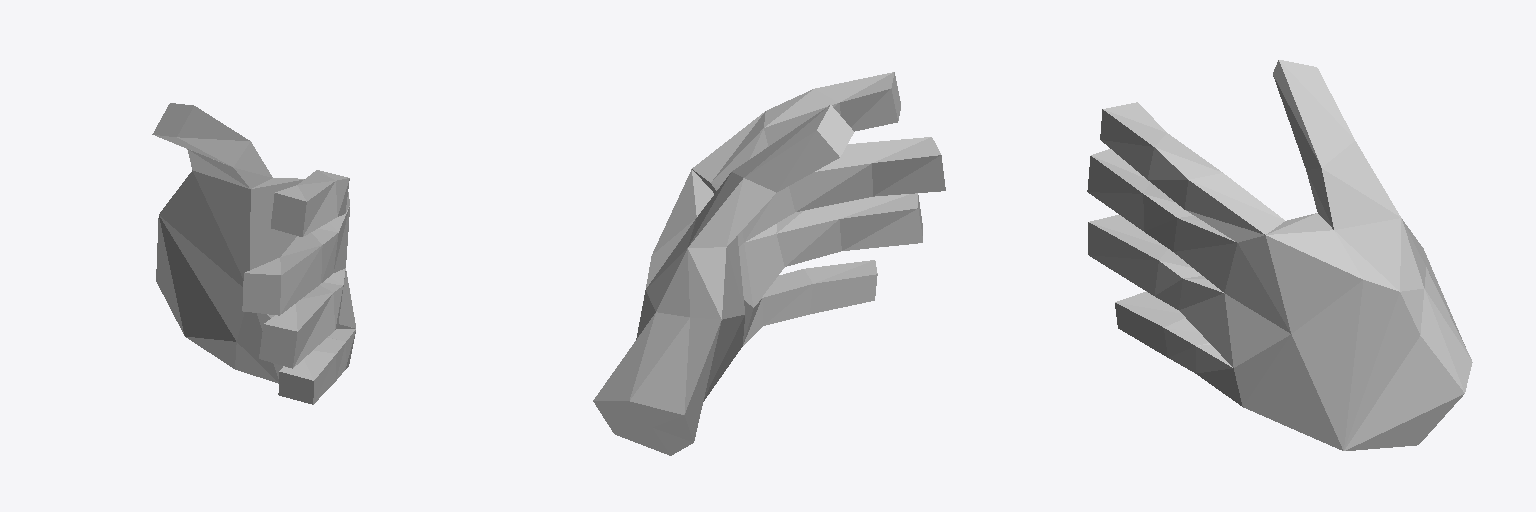
Rendered from ClarinetLeftHand0.obj.
3 renders of one model, left to right at view 1: azimuth 30°, elevation 25°; view 2: azimuth 150°, elevation 25°; view 3: azimuth 270°, elevation 25°, orthographic.
Visible parts, largest first — view 1: ClarinetLeftHand1_RecorderHandLeft0.016; view 2: ClarinetLeftHand1_RecorderHandLeft0.016; view 3: ClarinetLeftHand1_RecorderHandLeft0.016.
Boxes of the visible parts, box(x1,y1,x2,y2) form: ClarinetLeftHand1_RecorderHandLeft0.016: box(152, 103, 355, 404); ClarinetLeftHand1_RecorderHandLeft0.016: box(593, 72, 945, 455); ClarinetLeftHand1_RecorderHandLeft0.016: box(1087, 60, 1472, 450).
Size of the model in its own units: 3 by 4.98 by 5.23.